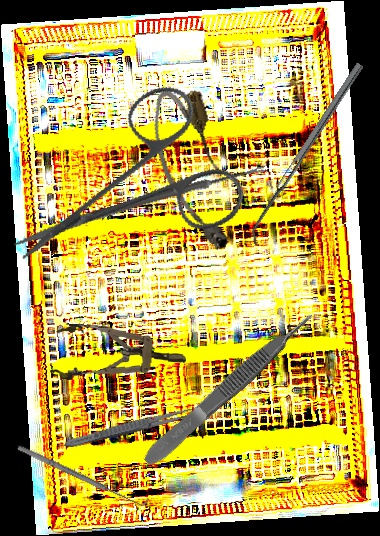Cannula: (143, 82, 240, 260)
Dressing Forceps: (61, 403, 200, 452)
Hook Surgical: (14, 438, 151, 512)
Iris Scissors: (10, 56, 268, 313)
Spatula Surgical: (243, 62, 371, 246)
Speculum: (49, 322, 188, 388)
Surgical Spoon: (77, 162, 267, 226)
Tissue Forceps: (138, 308, 321, 470)
